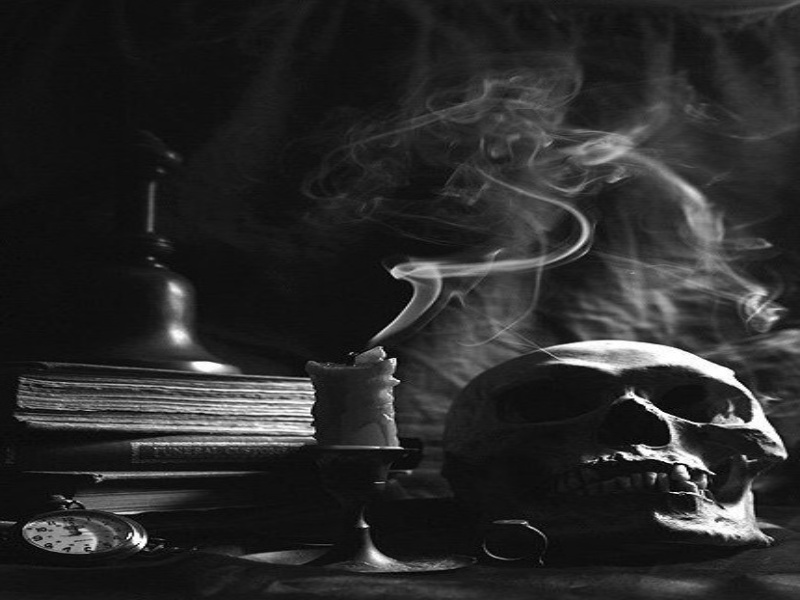smoke: (379, 69, 787, 331)
